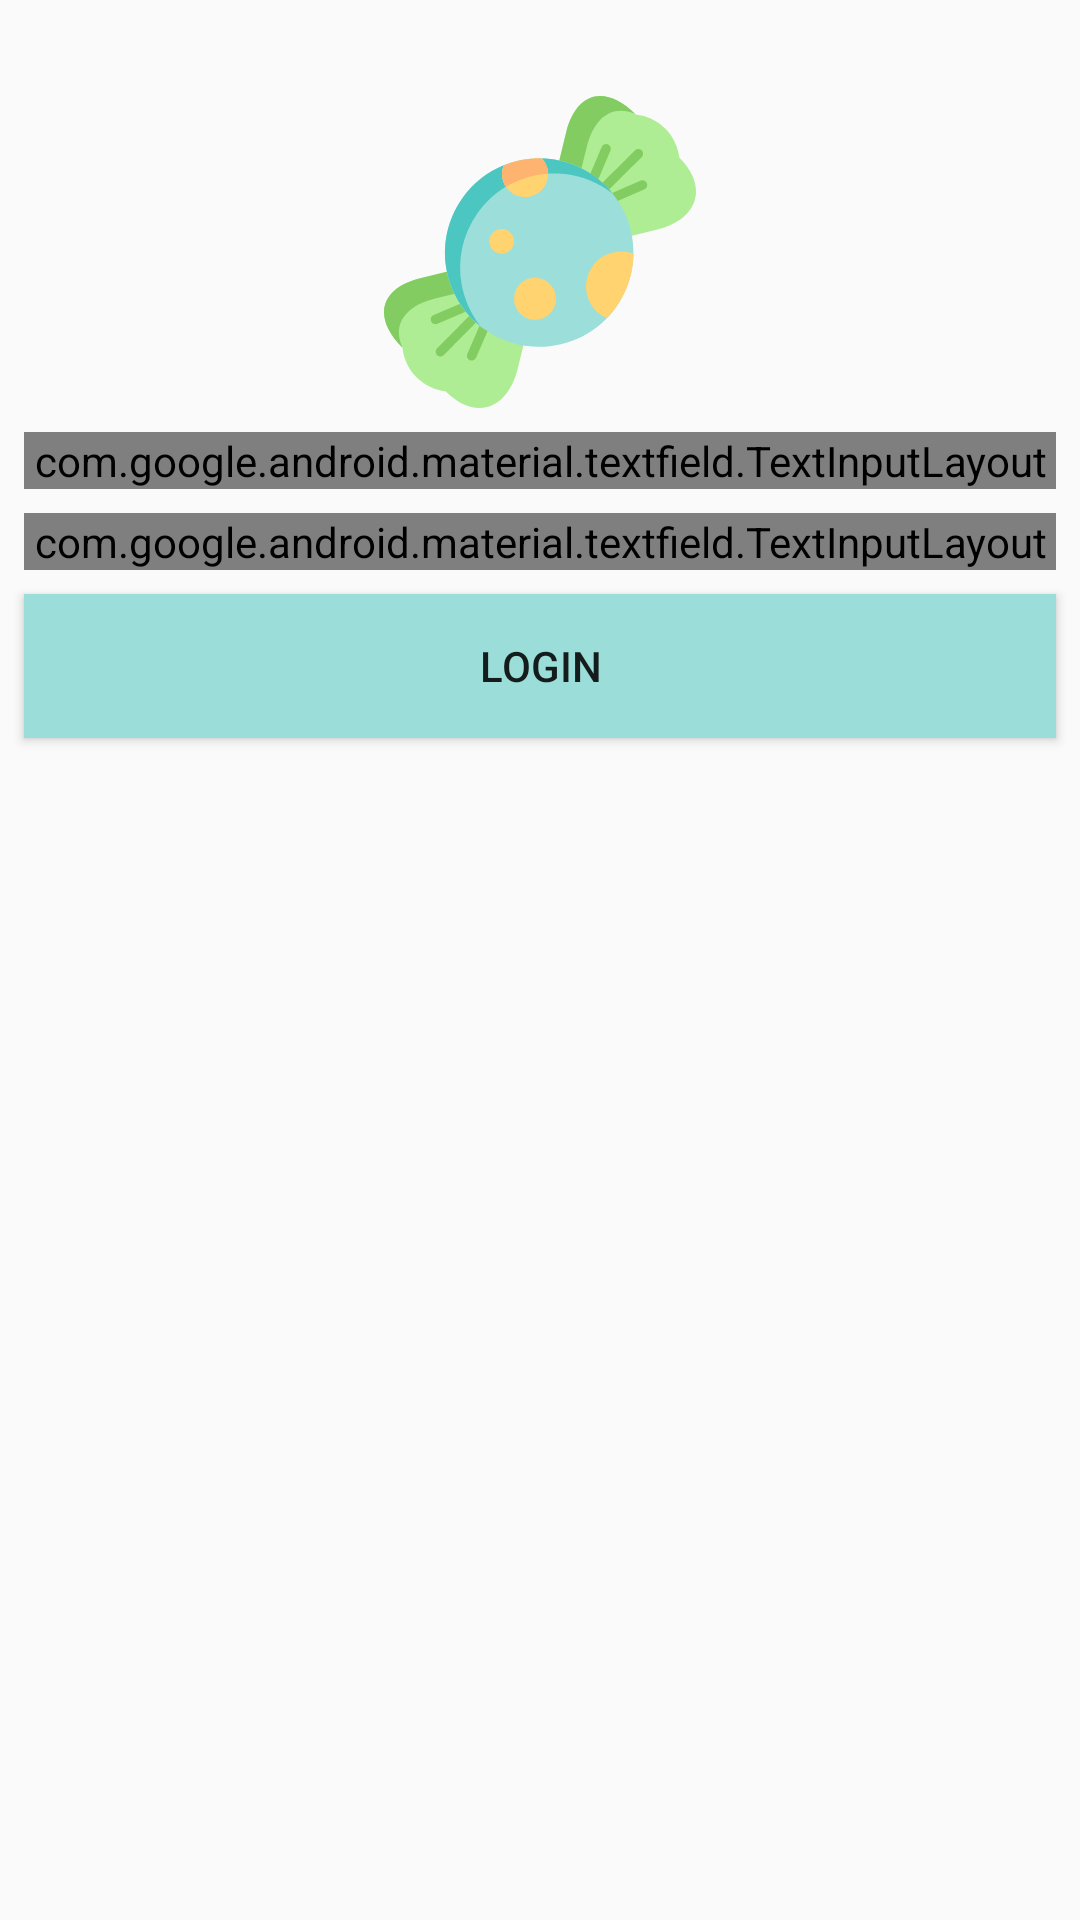

Icon bounding boxes for this 1080x1920 phone screenshot, format Rect(x1, y1, x2, y2):
candy: Rect(384, 96, 696, 408)
